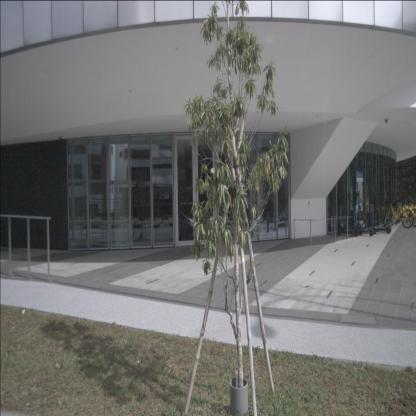vehicle-bicycle: (381, 193, 415, 230)
vehicle-car: (136, 203, 197, 245)
